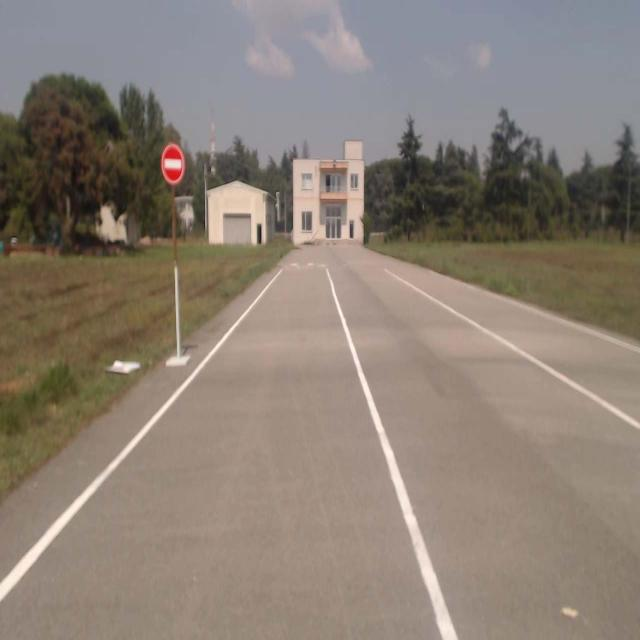girisyok: (160, 145, 184, 183)
